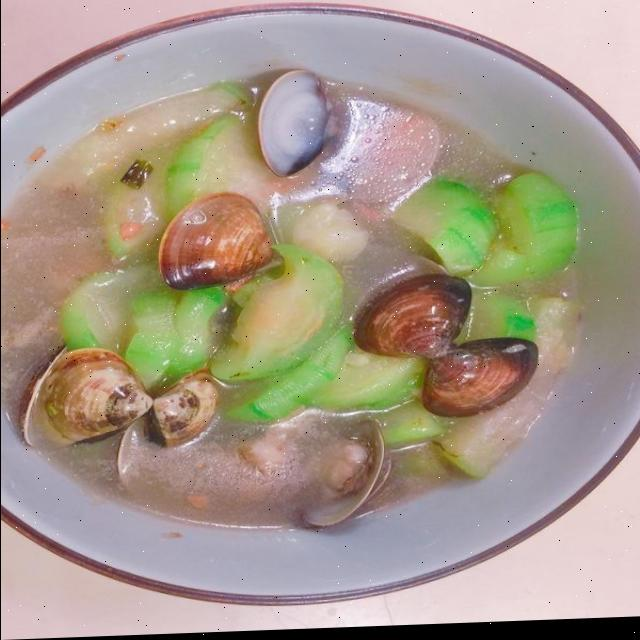Wet: (81, 108, 574, 537)
